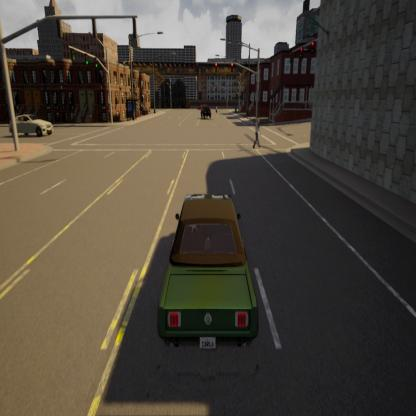Cars: (152, 174, 264, 364), (7, 110, 56, 141), (198, 102, 212, 120)
Pedestrian: (252, 112, 266, 152)
